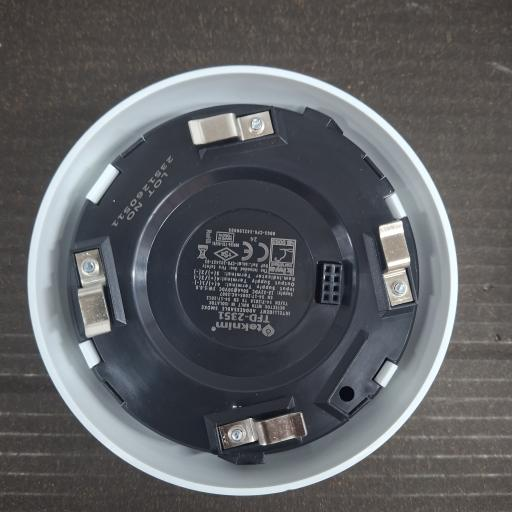yaysiz: (202, 394, 307, 467), (68, 236, 127, 338), (363, 217, 419, 318), (186, 108, 277, 146)
